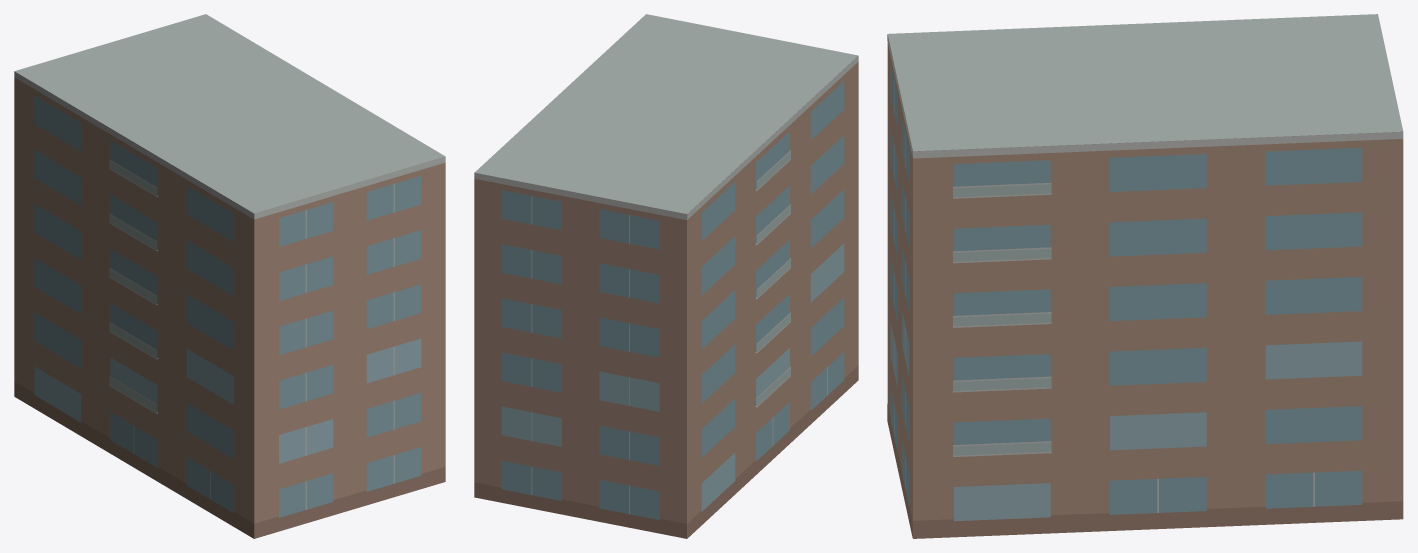
Rendered from survey-upis-32894100.glb.
3 renders of one model, left to right at view 1: azimuth 30°, elevation 25°; view 2: azimuth 150°, elevation 25°; view 3: azimuth 270°, elevation 25°, orthographic. The views are drawn at different scales.
Visible parts, largest first — view 1: survey-upis-32894100.tmp; view 2: survey-upis-32894100.tmp; view 3: survey-upis-32894100.tmp.
Part boxes in pixels (x1=…): survey-upis-32894100.tmp: x1=14, y1=14, x2=445, y2=538; survey-upis-32894100.tmp: x1=474, y1=14, x2=858, y2=538; survey-upis-32894100.tmp: x1=887, y1=14, x2=1403, y2=538.
Size of the model in its own units: 10 by 13.15 by 15.87.
